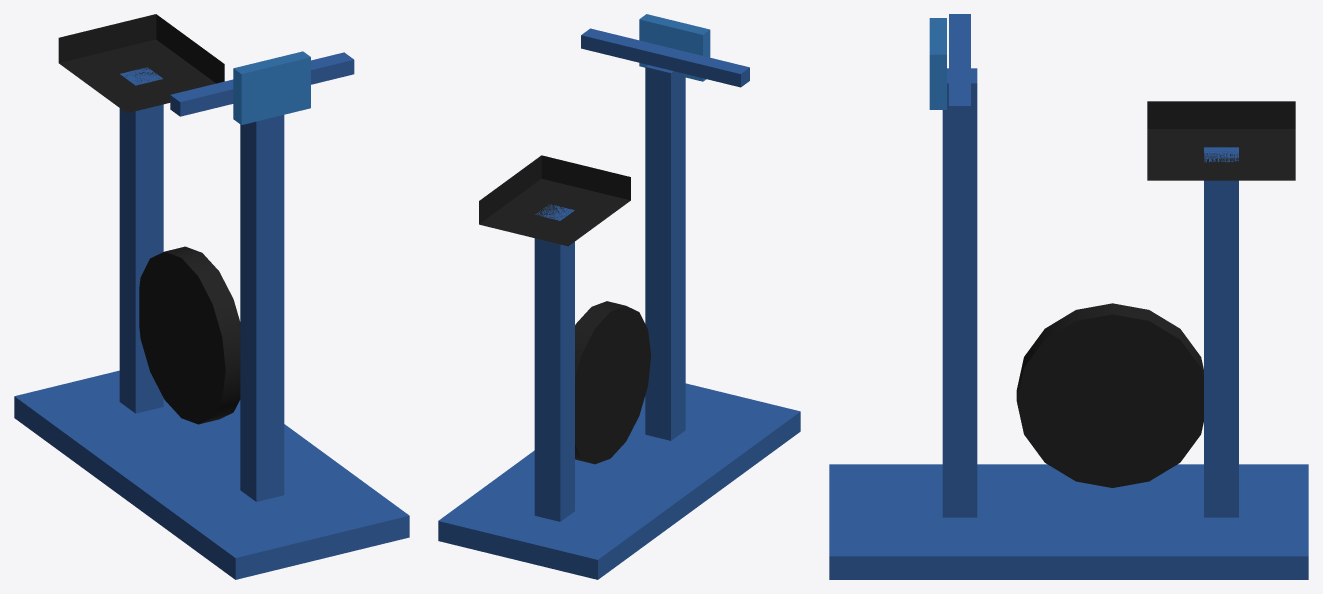
The model's file is exercise_bike.glb.
3 views of the same model, side by side, from view 1: azimuth 30°, elevation 25°; view 2: azimuth 150°, elevation 25°; view 3: azimuth 270°, elevation 25° (orthographic). The views are drawn at different scales.
Parts seen in each view (by area): view 1: exercise_bike; view 2: exercise_bike; view 3: exercise_bike.
Boxes of the visible parts, x1,y1,x2,y2 form: exercise_bike: (14, 14, 409, 579); exercise_bike: (438, 14, 800, 579); exercise_bike: (829, 14, 1308, 579).
Bounding box in the file's own units: 0.5 × 1.26 × 1.1.
